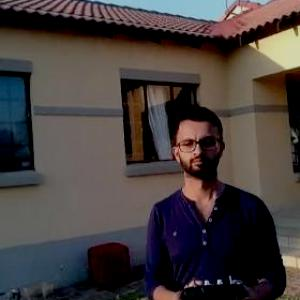follow: (141, 99, 298, 299)
null: (1, 265, 70, 299)
